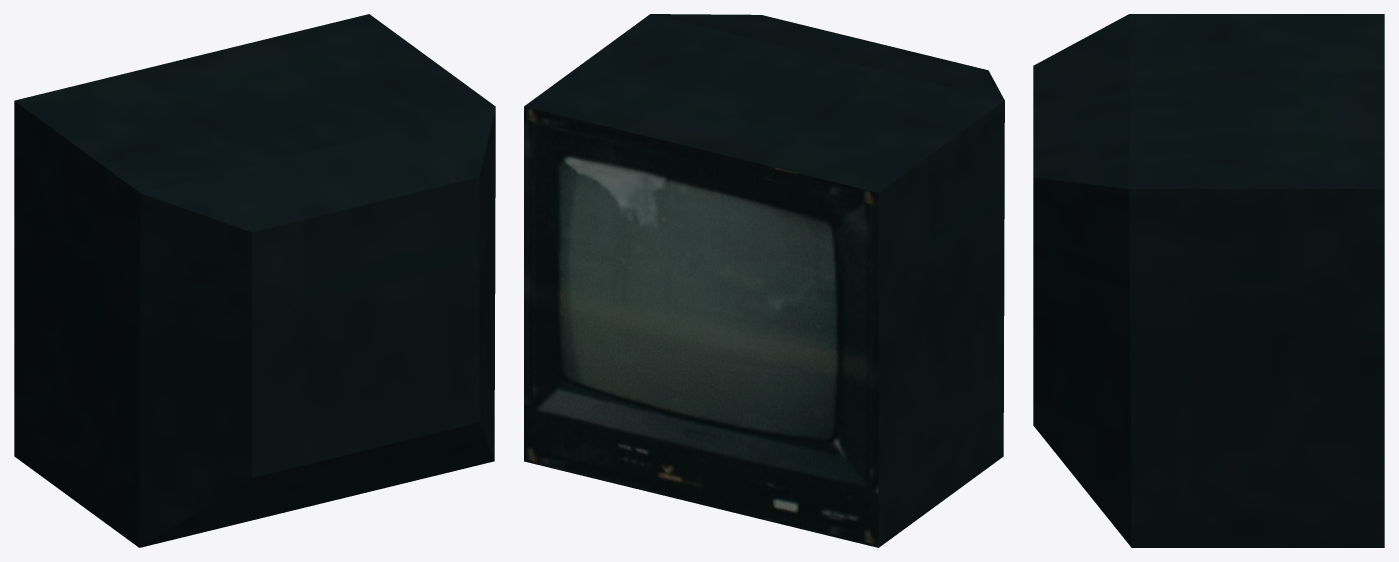
The picture shows the model from 3 angles, left to right: view 1: azimuth 30°, elevation 25°; view 2: azimuth 150°, elevation 25°; view 3: azimuth 270°, elevation 25°; orthographic projection.
Visible parts, largest first — view 1: Cube.167; view 2: Cube.167; view 3: Cube.167.
Part boxes in pixels (left/top/right/bottom): Cube.167: left=14, top=14, right=495, bottom=547; Cube.167: left=524, top=14, right=1004, bottom=547; Cube.167: left=1033, top=14, right=1384, bottom=547.
Size of the model in its own units: 1.58 by 1.52 by 1.34.
Materials: 1 (1 with a texture image).
